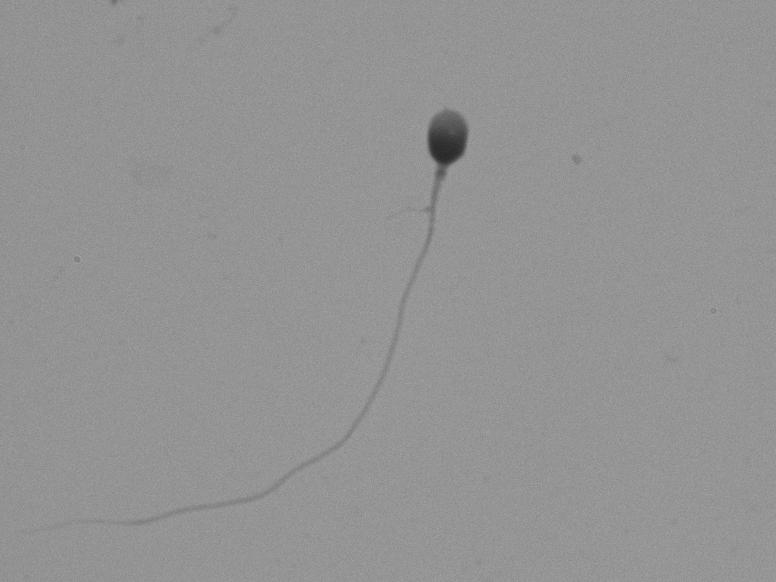Normal: (94, 100, 567, 516)
